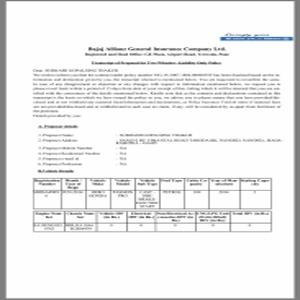image: (218, 33, 295, 42)
table: (33, 177, 273, 210), (33, 210, 272, 234)
text: (32, 67, 284, 118), (33, 124, 283, 175), (83, 44, 231, 66)
